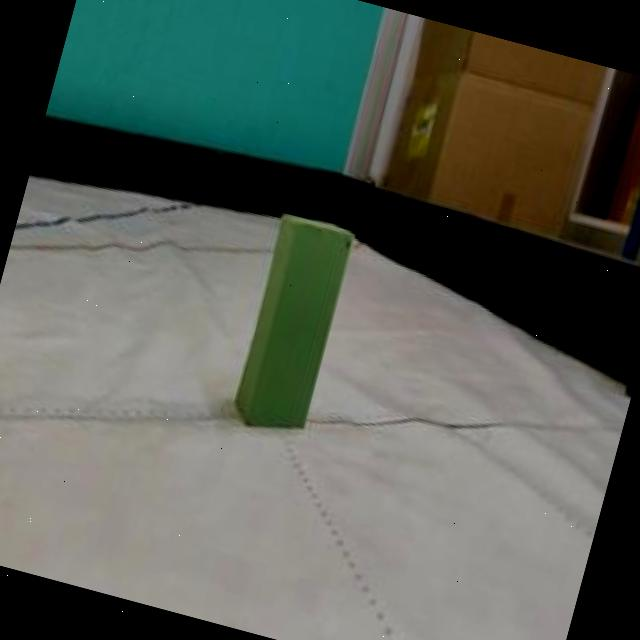greenbox: (224, 207, 358, 440)
